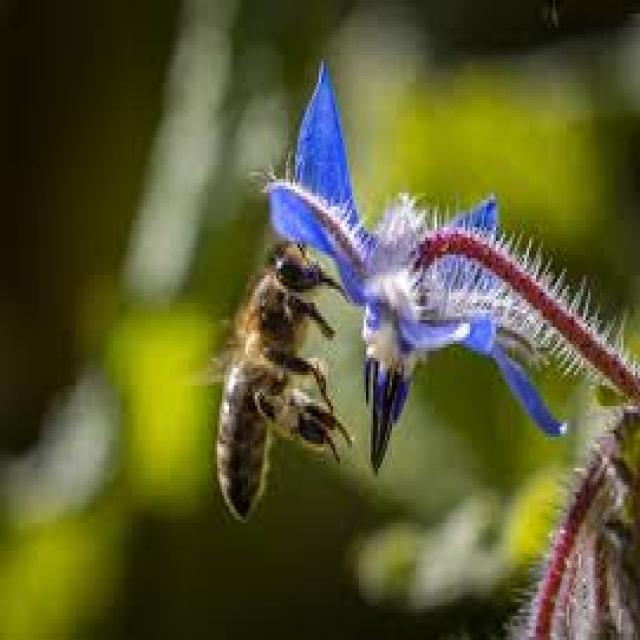Bees: (209, 236, 353, 521)
